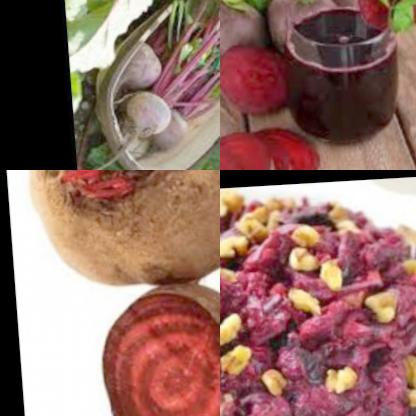beet: (16, 170, 220, 299), (87, 287, 220, 416), (220, 254, 296, 392), (291, 348, 416, 416), (282, 303, 375, 378), (220, 38, 285, 115), (377, 238, 416, 342), (261, 0, 337, 48), (220, 0, 265, 67), (252, 126, 319, 170), (300, 220, 365, 264), (220, 124, 276, 170), (112, 42, 163, 92), (121, 93, 169, 141), (352, 0, 416, 33), (223, 385, 290, 416), (144, 108, 187, 155)
